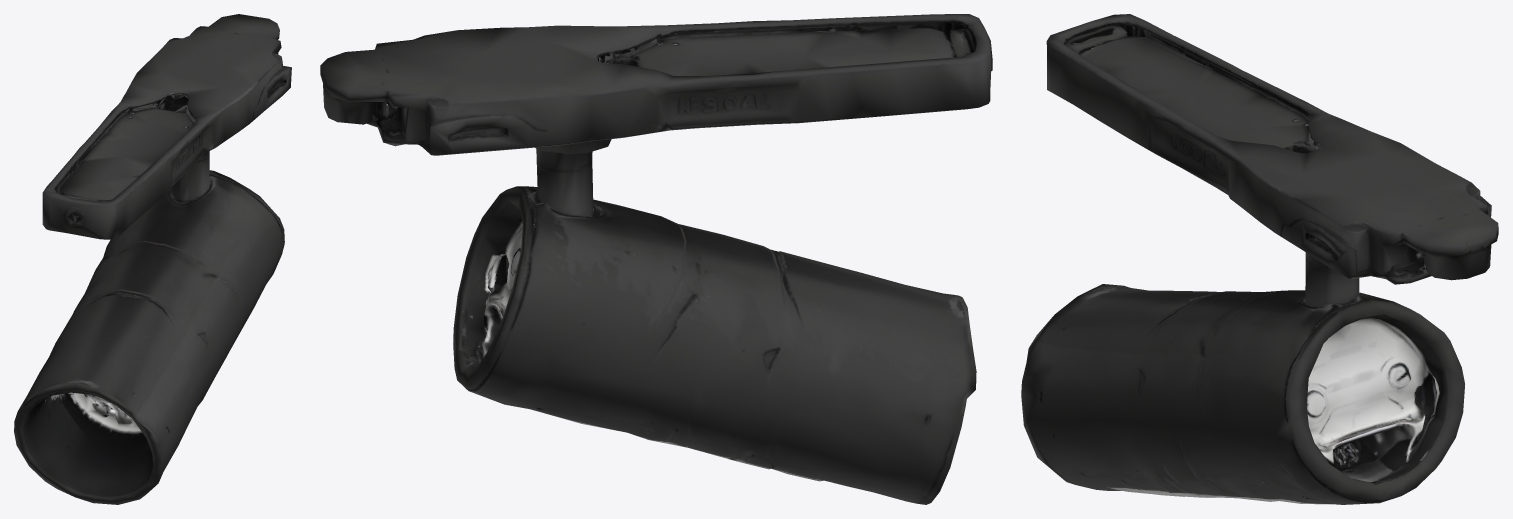
File: luminaria3.obj
The picture shows the model from 3 angles, left to right: view 1: azimuth 30°, elevation 25°; view 2: azimuth 150°, elevation 25°; view 3: azimuth 270°, elevation 25°; orthographic projection. The views are drawn at different scales.
Parts seen in each view (by area): view 1: luminaria3; view 2: luminaria3; view 3: luminaria3.
Boxes of the visible parts, <box> form: luminaria3: <box>14,14,291,504</box>; luminaria3: <box>320,14,992,504</box>; luminaria3: <box>1021,14,1498,504</box>.
Size of the model in its own units: 1.87 by 1.61 by 1.59.
Materials: 1 (1 with a texture image).
